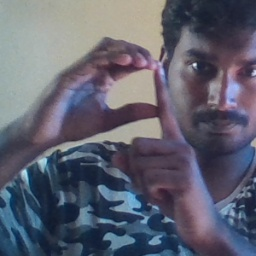P: (43, 33, 190, 189)
